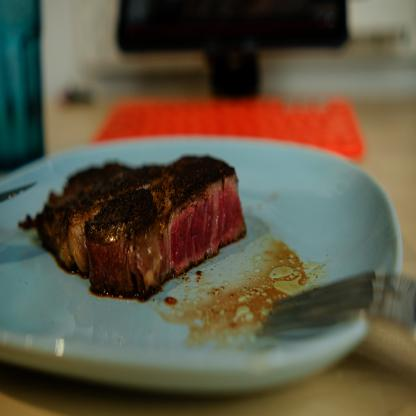Carne: (88, 161, 245, 297), (22, 170, 149, 268)
